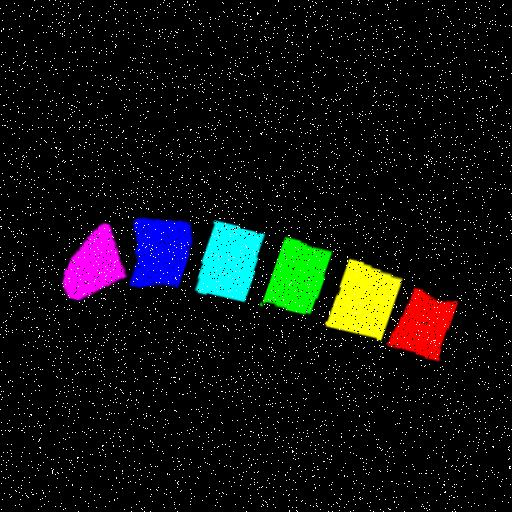L1: (390, 295, 458, 365)
L2: (328, 264, 403, 345)
L3: (264, 241, 331, 319)
L4: (197, 227, 264, 306)
L5: (130, 220, 193, 289)
S1: (64, 224, 126, 301)
